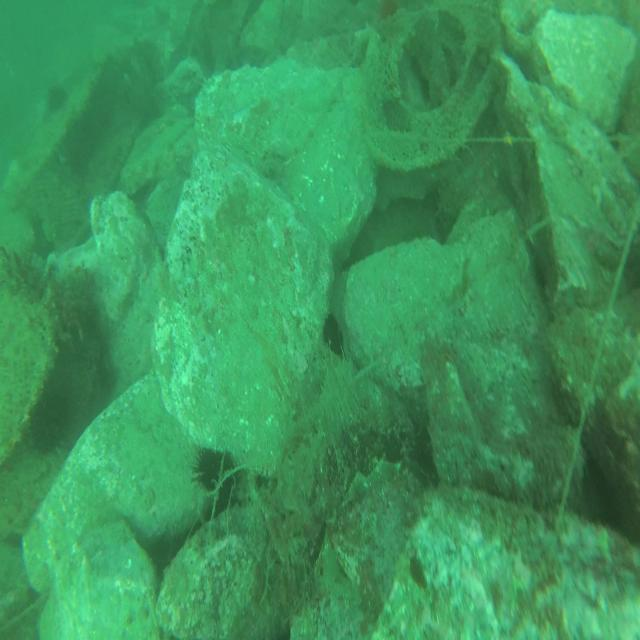echinus: (192, 442, 234, 494), (321, 310, 347, 363), (47, 84, 68, 114)
